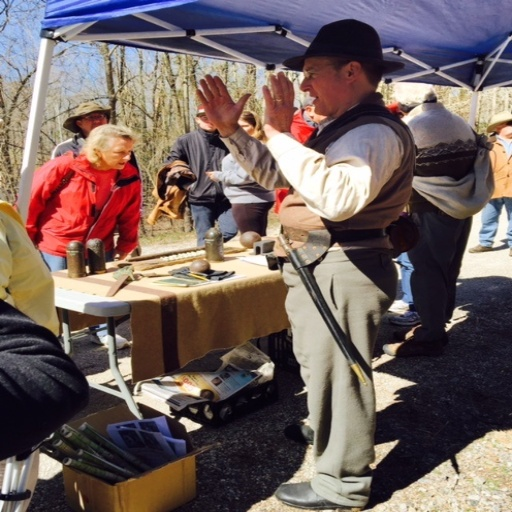hand: (194, 70, 249, 129), (261, 67, 298, 140), (109, 246, 129, 262), (201, 168, 215, 182)
